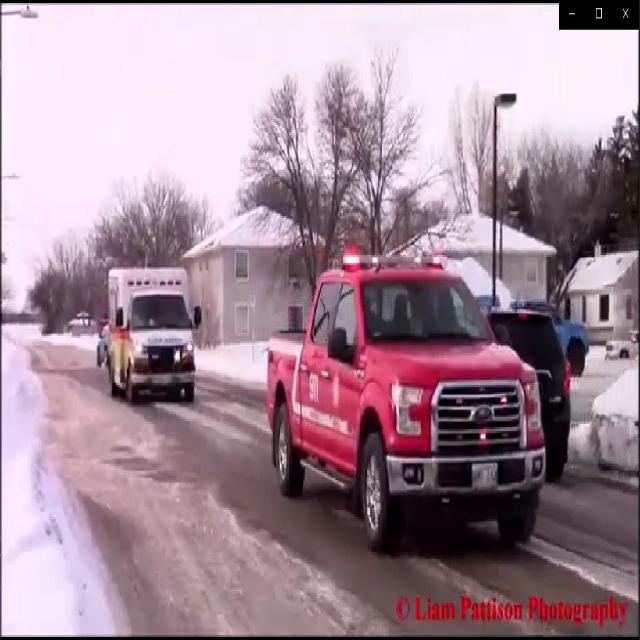emergency: (265, 244, 548, 551), (107, 262, 205, 414)
